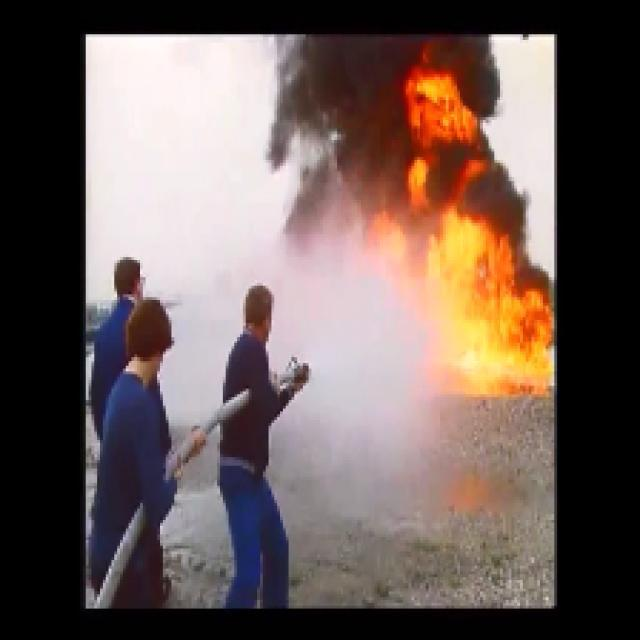Fire: (436, 238, 546, 382), (408, 72, 470, 140)
Smoke: (306, 52, 403, 192)
